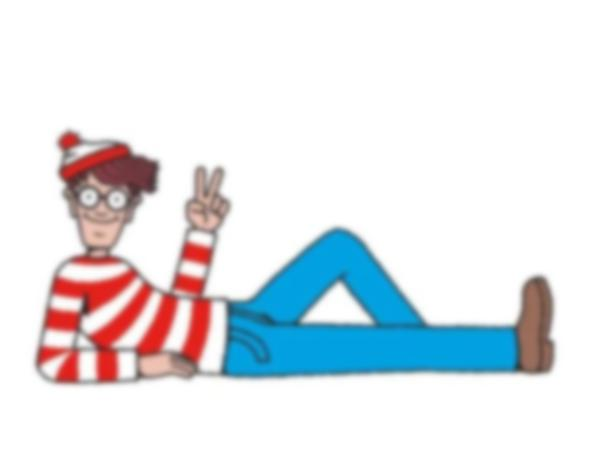waldos: (35, 128, 558, 386)
